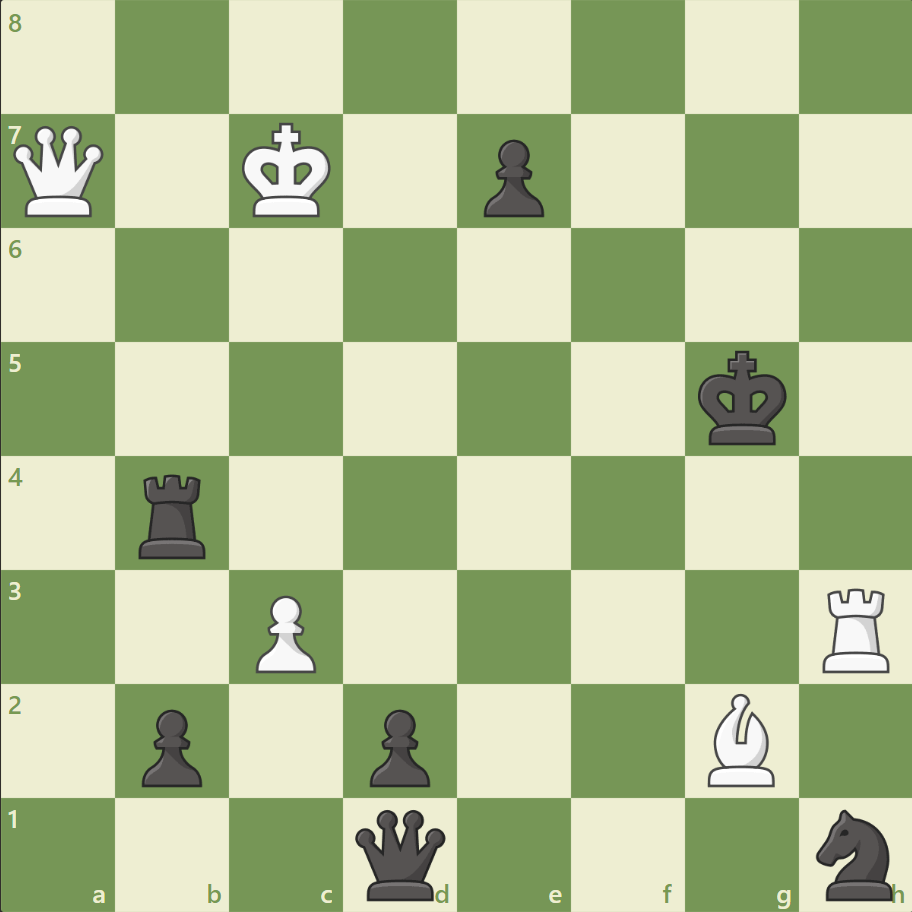B: (698, 687, 782, 790)
K: (238, 117, 338, 225)
P: (247, 586, 322, 677)
Q: (10, 122, 109, 222)
R: (814, 579, 897, 676)
k: (692, 344, 792, 452)
n: (806, 802, 903, 904)
p: (474, 132, 549, 223), (133, 700, 208, 791), (361, 700, 435, 791)
q: (351, 804, 450, 903)
r: (133, 466, 215, 563)
